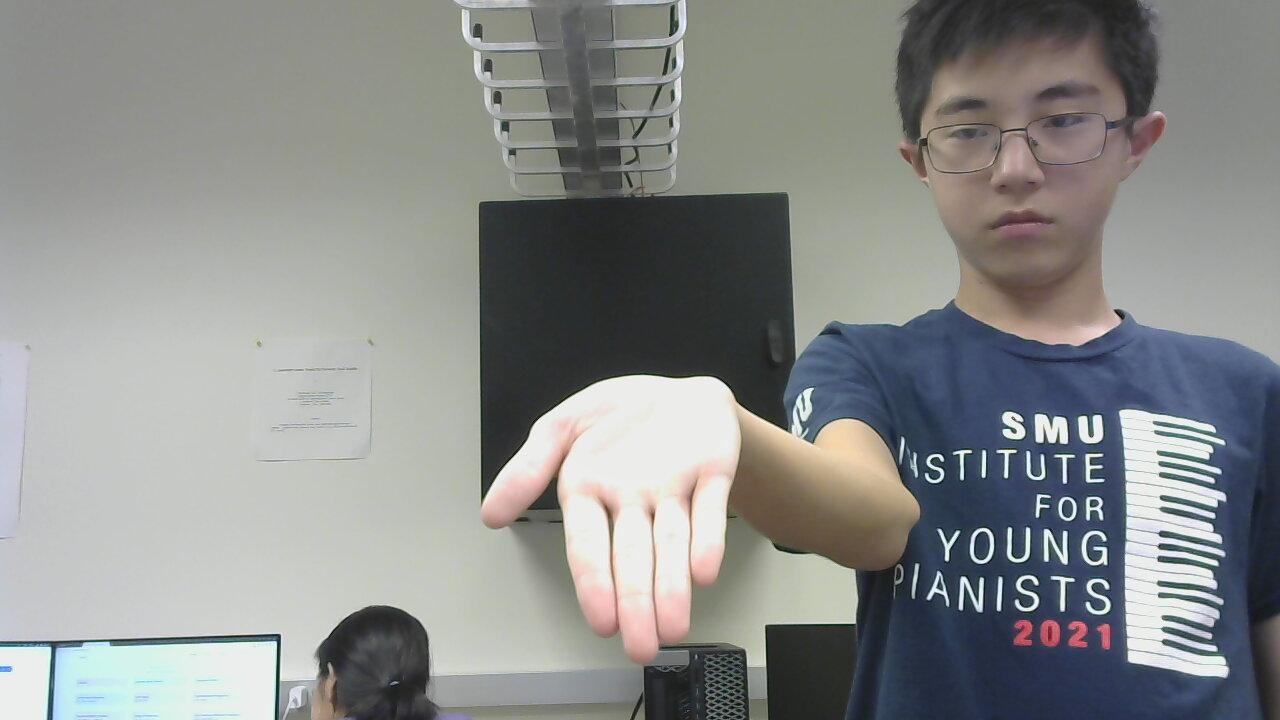hands: (496, 364, 755, 648)
